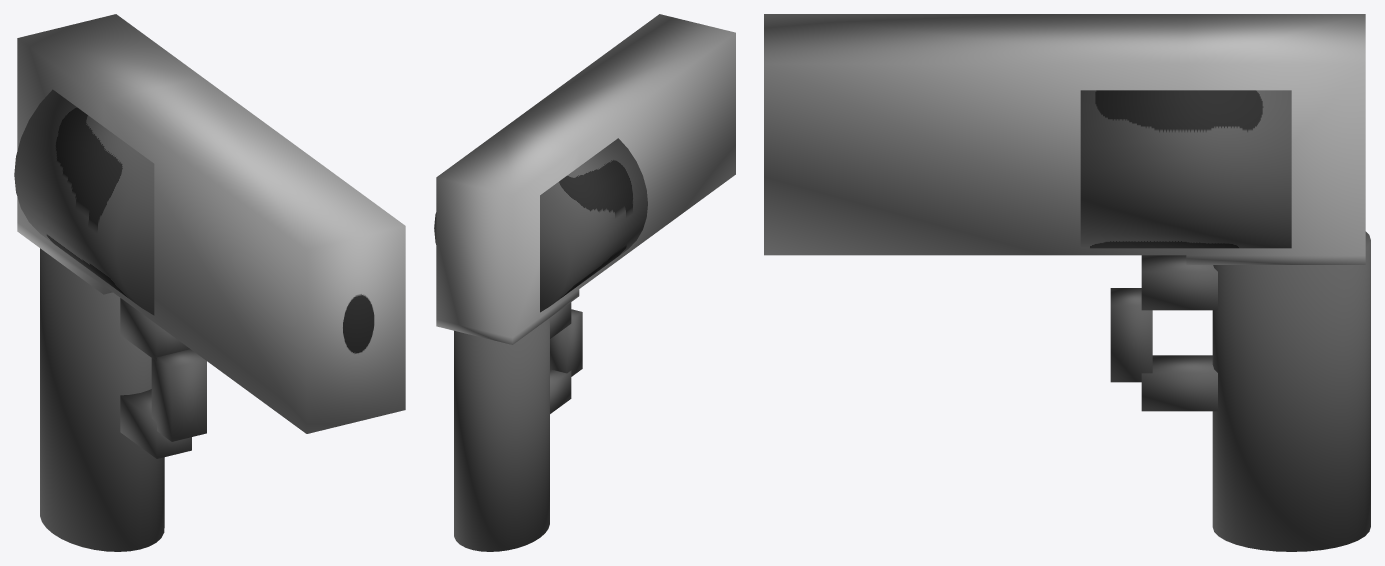
Rendered from revolver.fbx.
The picture shows the model from 3 angles, left to right: view 1: azimuth 30°, elevation 25°; view 2: azimuth 150°, elevation 25°; view 3: azimuth 270°, elevation 25°; orthographic projection. The views are drawn at different scales.
Visible parts, largest first — view 1: Cylinder; view 2: Cylinder; view 3: Cylinder.
Boxes of the visible parts, box(x1,y1,x2,y2) form: Cylinder: box(14, 14, 405, 551); Cylinder: box(434, 14, 735, 551); Cylinder: box(764, 14, 1370, 551).
Bounding box in the file's own units: 0.5 × 1.28 × 1.44.
